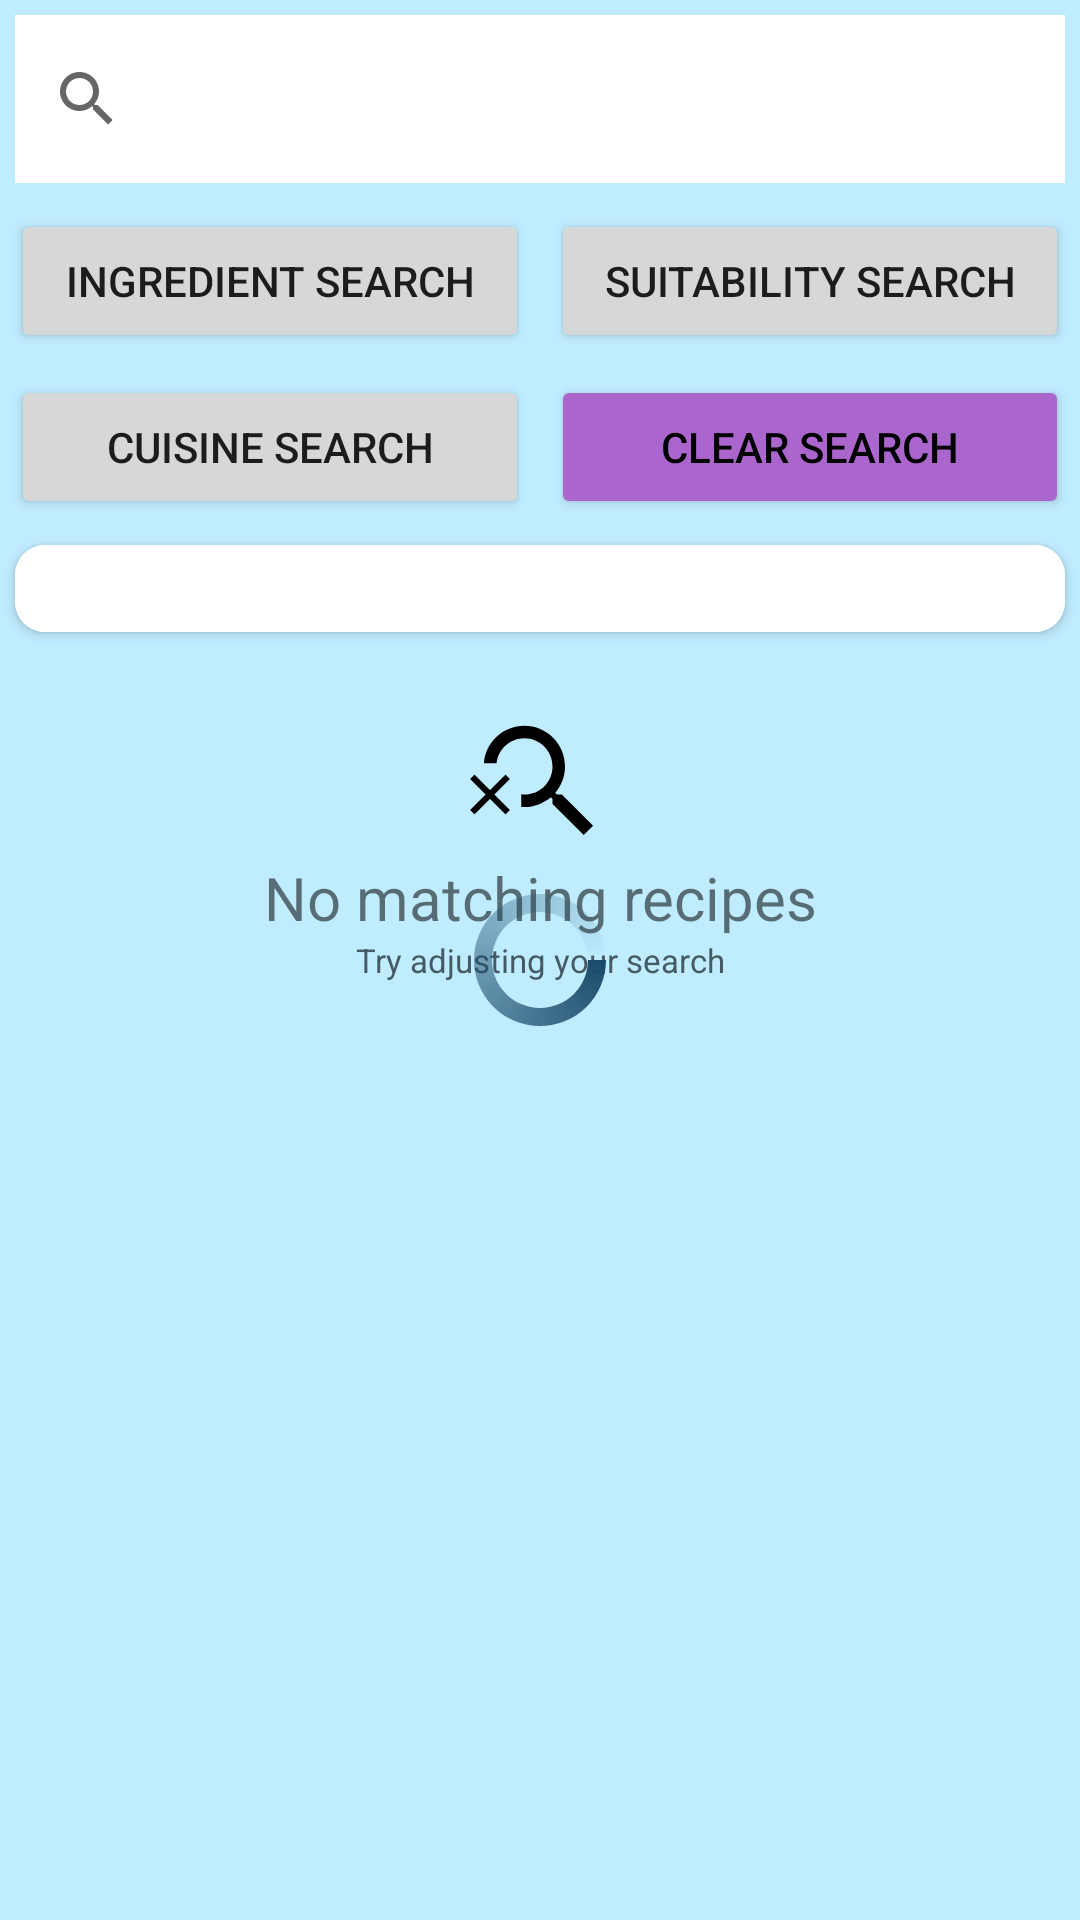

Icon bounding boxes for this 1080×1920 phone screenshot, format (x1, y1, x2, y2):
Search icon with X: (470, 725, 593, 835)
